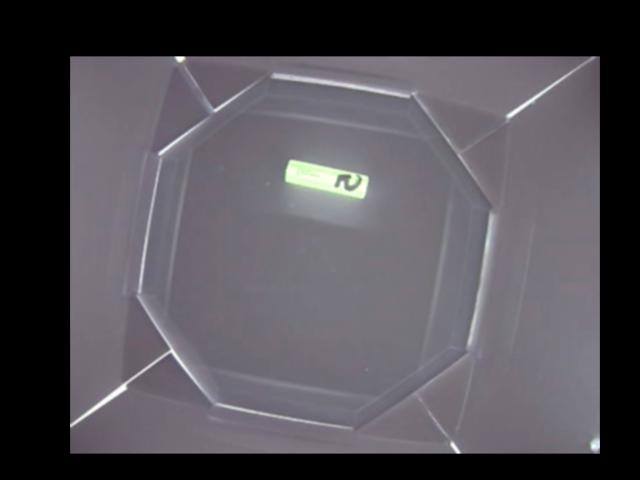Battery: (284, 159, 368, 197)
